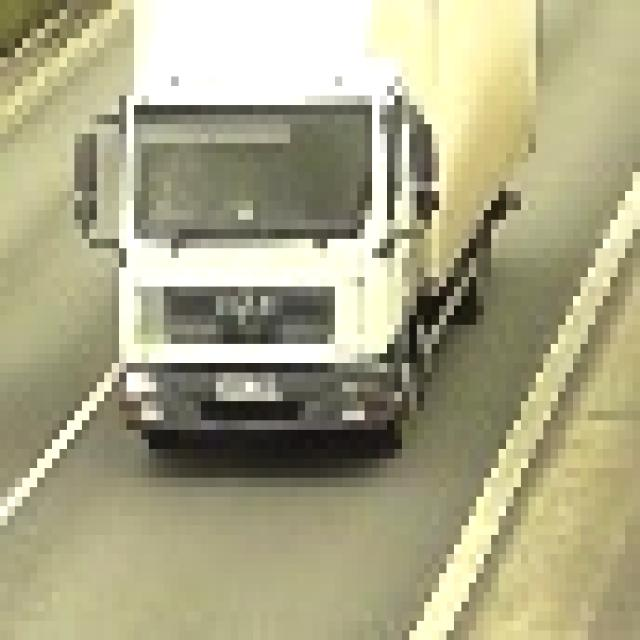truck: (68, 1, 529, 450)
